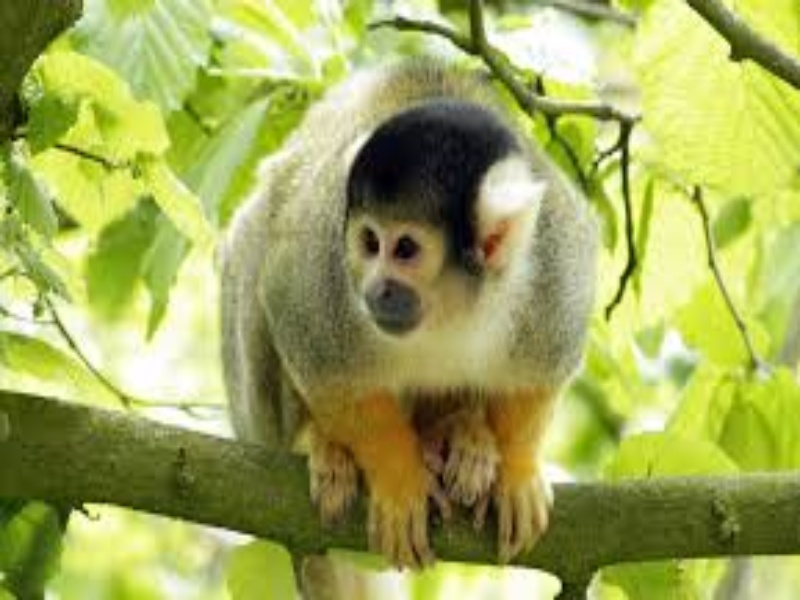monkey: (207, 57, 619, 579)
